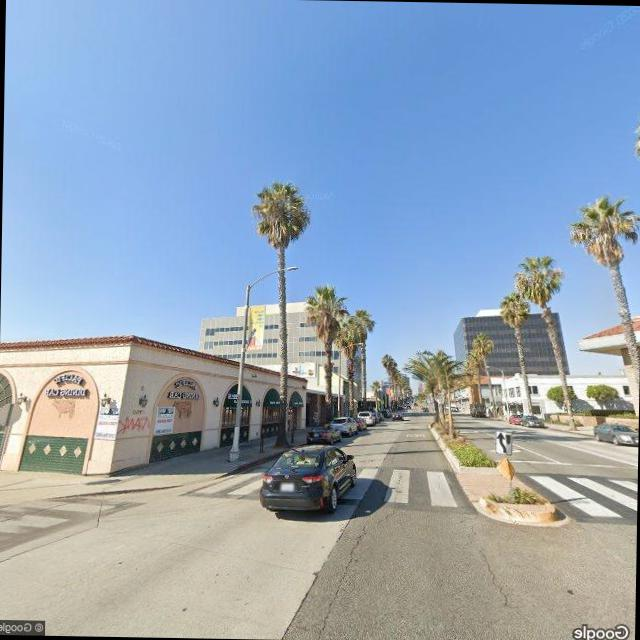crack: (310, 502, 394, 637), (462, 516, 528, 620)
